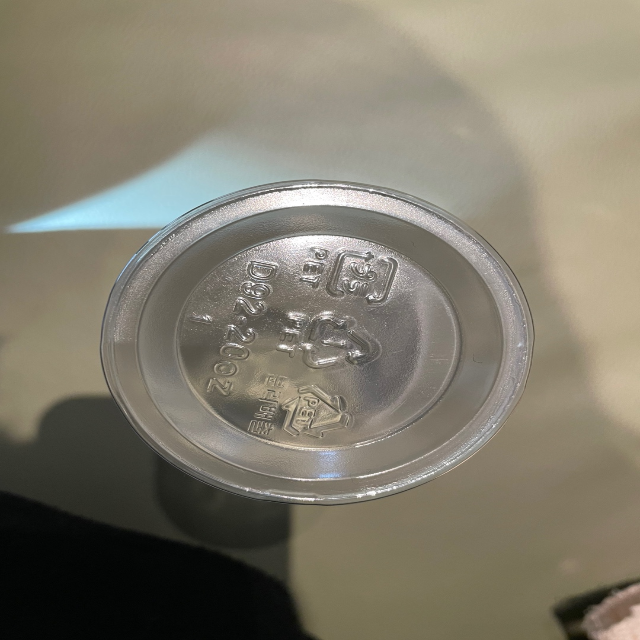pet: (244, 367, 362, 444), (274, 304, 388, 377), (295, 236, 398, 311)
